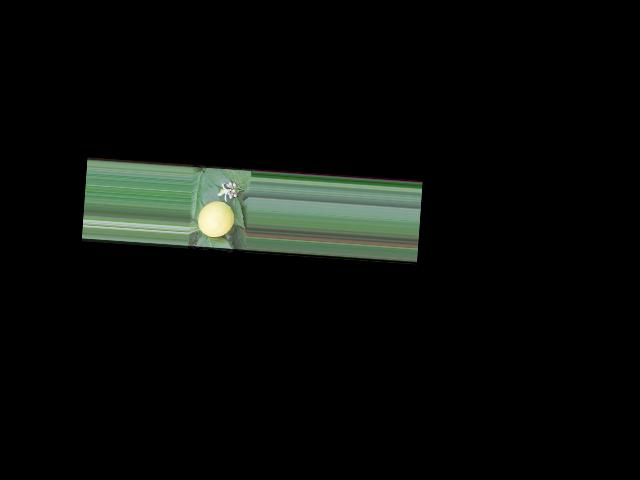lemon: (195, 199, 234, 241)
